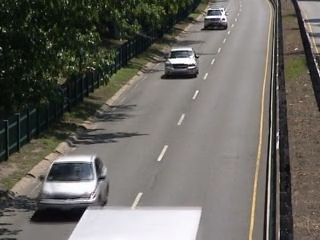car: (35, 154, 111, 216), (162, 46, 202, 80), (201, 5, 229, 30)
